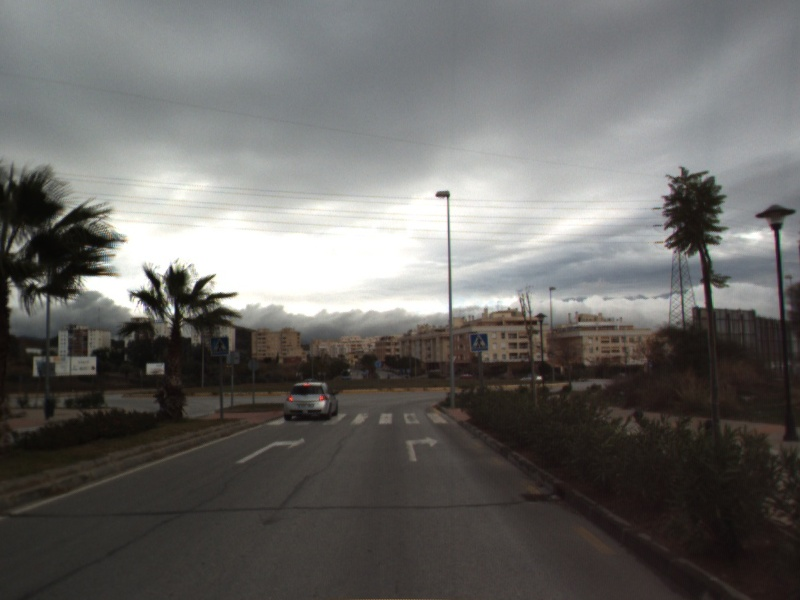RIGHT: (233, 435, 307, 465), (405, 434, 440, 462)
